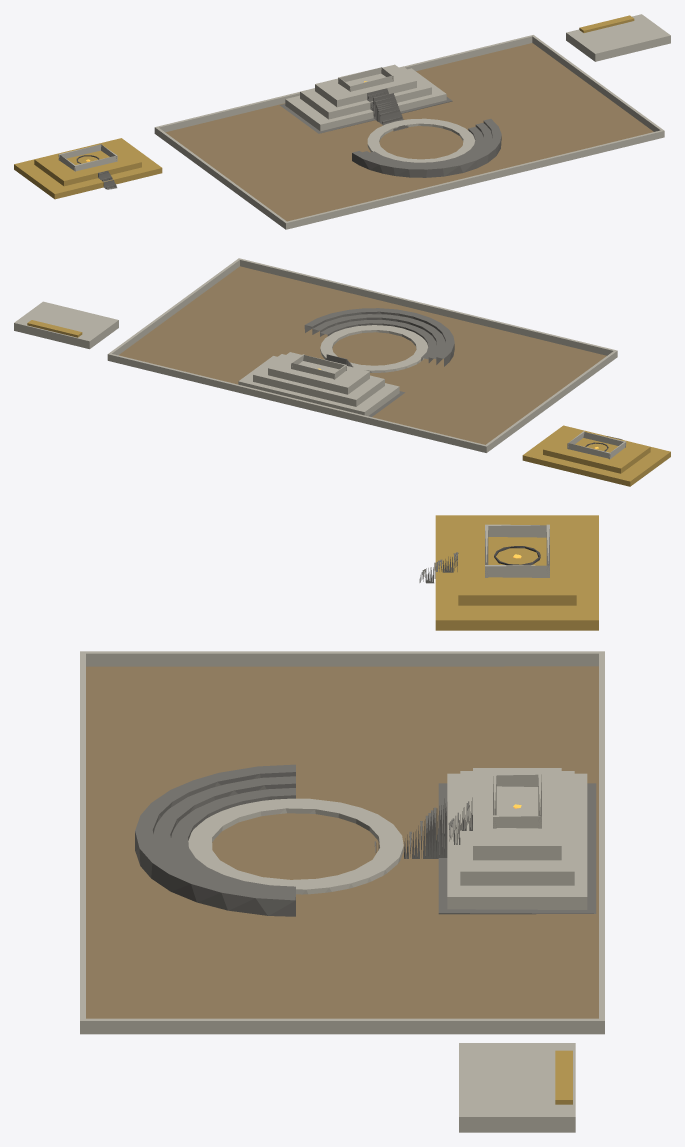
Rendered from caral_anfiteatro_lod1.glb.
3 views of the same model, one above another, from view 1: azimuth 30°, elevation 25°; view 2: azimuth 150°, elevation 25°; view 3: azimuth 270°, elevation 25° (orthographic). The views are drawn at different scales.
Visible parts, largest first — view 1: GEO-Caral_Anfiteatro_LOD1_Sand_Desert, GEO-Caral_Anfiteatro_LOD1_Plaster_White, GEO-Caral_Anfiteatro_LOD1_Stone_Granodiorite, GEO-Caral_Anfiteatro_LOD1_Plaster_Yellow; view 2: GEO-Caral_Anfiteatro_LOD1_Sand_Desert, GEO-Caral_Anfiteatro_LOD1_Plaster_White, GEO-Caral_Anfiteatro_LOD1_Plaster_Yellow, GEO-Caral_Anfiteatro_LOD1_Stone_Granodiorite; view 3: GEO-Caral_Anfiteatro_LOD1_Sand_Desert, GEO-Caral_Anfiteatro_LOD1_Plaster_White, GEO-Caral_Anfiteatro_LOD1_Stone_Granodiorite, GEO-Caral_Anfiteatro_LOD1_Plaster_Yellow.
Boxes of the visible parts, x1=… form: GEO-Caral_Anfiteatro_LOD1_Sand_Desert: x1=165, y1=43, x2=653, y2=221; GEO-Caral_Anfiteatro_LOD1_Plaster_White: x1=58, y1=14, x2=670, y2=229; GEO-Caral_Anfiteatro_LOD1_Stone_Granodiorite: x1=98, y1=88, x2=501, y2=189; GEO-Caral_Anfiteatro_LOD1_Plaster_Yellow: x1=14, y1=15, x2=634, y2=199; GEO-Caral_Anfiteatro_LOD1_Sand_Desert: x1=119, y1=266, x2=606, y2=444; GEO-Caral_Anfiteatro_LOD1_Plaster_White: x1=14, y1=258, x2=626, y2=459; GEO-Caral_Anfiteatro_LOD1_Plaster_Yellow: x1=27, y1=320, x2=670, y2=486; GEO-Caral_Anfiteatro_LOD1_Stone_Granodiorite: x1=304, y1=308, x2=622, y2=439; GEO-Caral_Anfiteatro_LOD1_Sand_Desert: x1=86, y1=666, x2=598, y2=1018; GEO-Caral_Anfiteatro_LOD1_Plaster_White: x1=80, y1=524, x2=604, y2=1132; GEO-Caral_Anfiteatro_LOD1_Stone_Granodiorite: x1=135, y1=552, x2=596, y2=916; GEO-Caral_Anfiteatro_LOD1_Plaster_Yellow: x1=435, y1=515, x2=598, y2=1104.
Size of the model in its own units: 19.7 by 1.02 by 7.2.
